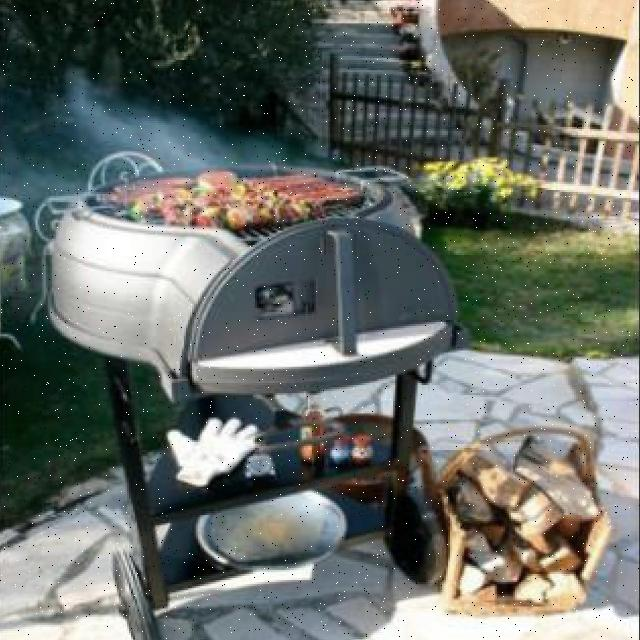smoke: (54, 72, 218, 176)
